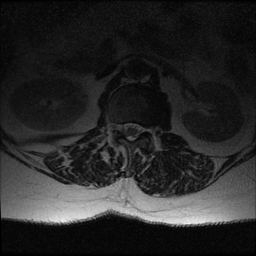CCS_normal: (128, 115, 135, 149)
LFS_stenosis: (143, 116, 151, 140)
LLS_stenosis: (135, 115, 143, 144)
RFS_normal: (114, 114, 121, 139)
RLS_normal: (121, 114, 128, 142)
